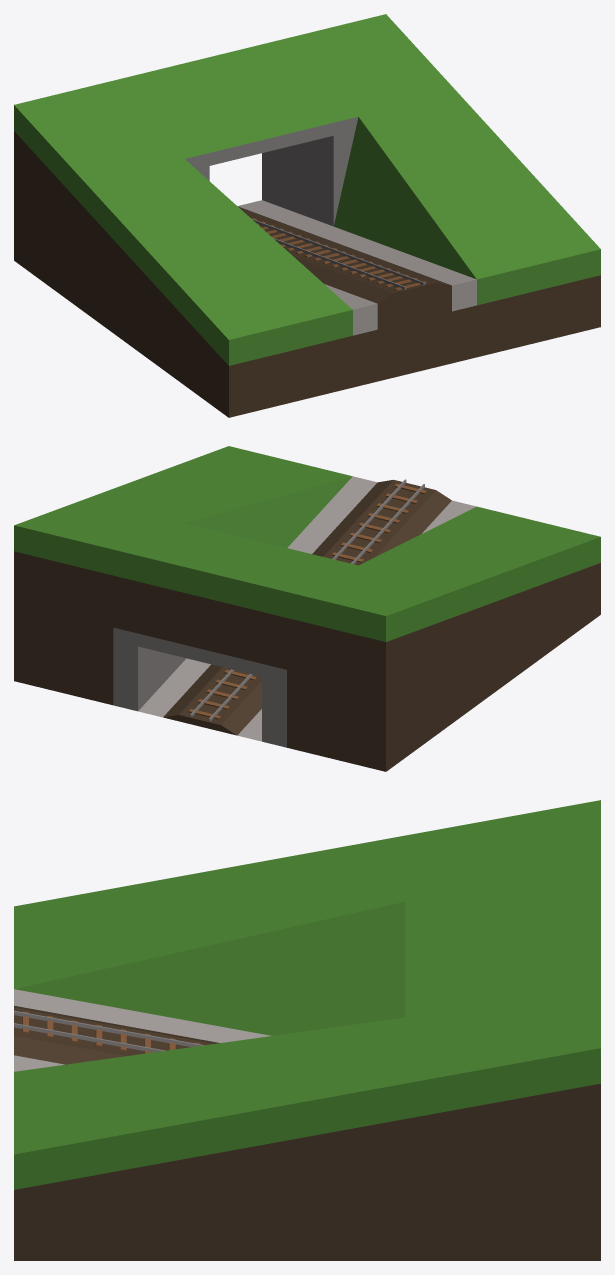
Rendered from tiles-tile-rail-hill-tunnel-entrance.glb.
3 views of the same model, one above another, from view 1: azimuth 30°, elevation 25°; view 2: azimuth 150°, elevation 25°; view 3: azimuth 270°, elevation 25° (orthographic). The views are drawn at different scales.
Visible parts, largest first — view 1: tile-rail-hill-tunnel-entrance; view 2: tile-rail-hill-tunnel-entrance; view 3: tile-rail-hill-tunnel-entrance.
Boxes of the visible parts, x1,y1,x2,y2 form: tile-rail-hill-tunnel-entrance: (14, 14, 600, 417); tile-rail-hill-tunnel-entrance: (14, 446, 600, 771); tile-rail-hill-tunnel-entrance: (14, 800, 600, 1260).
Size of the model in its own units: 30 by 12 by 30.
